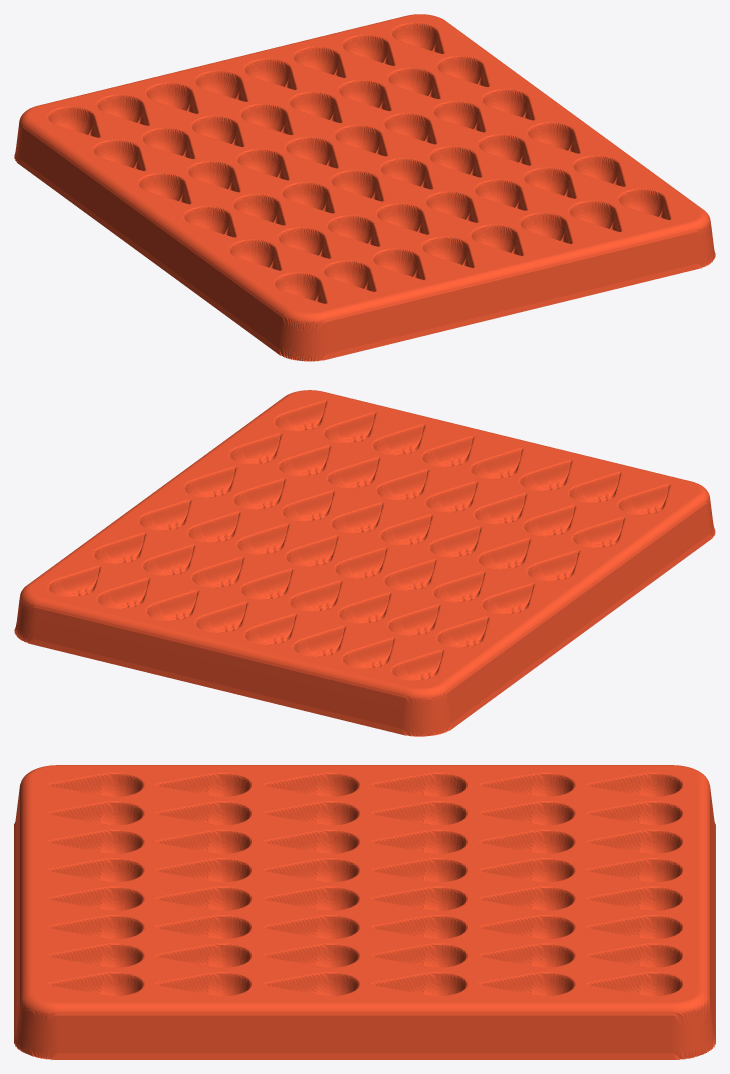
File: mold.glb
3 renders of one model, top to bottom at view 1: azimuth 30°, elevation 25°; view 2: azimuth 150°, elevation 25°; view 3: azimuth 270°, elevation 25°, orthographic. The views are drawn at different scales.
Visible parts, largest first — view 1: geometry_0; view 2: geometry_0; view 3: geometry_0.
Boxes of the visible parts, box(x1,y1,x2,y2) form: geometry_0: box(14, 14, 715, 361); geometry_0: box(14, 390, 715, 736); geometry_0: box(14, 765, 715, 1059).
Bounding box in the file's own units: 0.1222 × 0.0114 × 0.1443.
